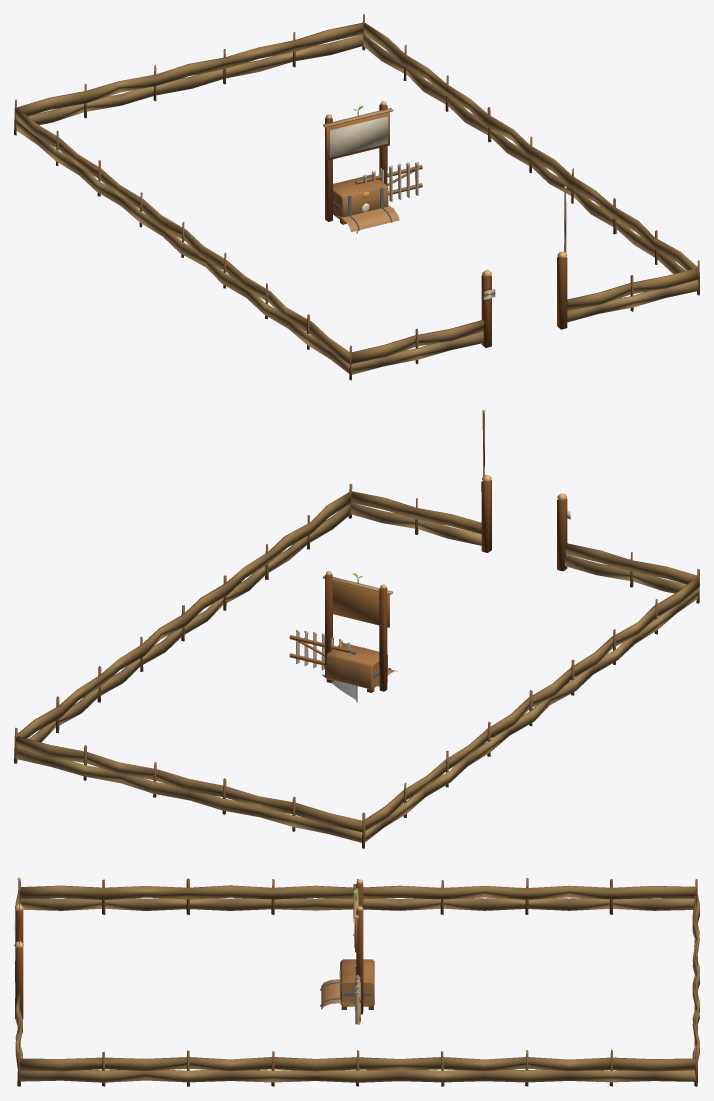
3 views of the same model, one above another, from view 1: azimuth 30°, elevation 25°; view 2: azimuth 150°, elevation 25°; view 3: azimuth 270°, elevation 25° (orthographic).
Parts seen in each view (by area): view 1: plot_fence, plot_sign, plot_chest, plot_gate, plot_chest_lid; view 2: plot_fence, plot_sign, plot_chest, plot_gate; view 3: plot_fence, plot_chest, plot_sign, plot_chest_lid.
Boxes of the visible parts, x1,y1,x2,y2 form: plot_fence: [14, 14, 699, 380]; plot_sign: [323, 101, 393, 221]; plot_chest: [333, 174, 388, 224]; plot_gate: [355, 161, 422, 201]; plot_chest_lid: [335, 205, 399, 231]; plot_fence: [14, 409, 699, 848]; plot_sign: [322, 571, 392, 691]; plot_chest: [326, 643, 387, 692]; plot_gate: [289, 629, 356, 670]; plot_fence: [14, 877, 699, 1086]; plot_chest: [339, 959, 374, 1009]; plot_sign: [353, 879, 363, 1014]; plot_chest_lid: [320, 979, 354, 1009].
Bounding box in the file's own units: 6.11 × 2.64 × 10.13.
